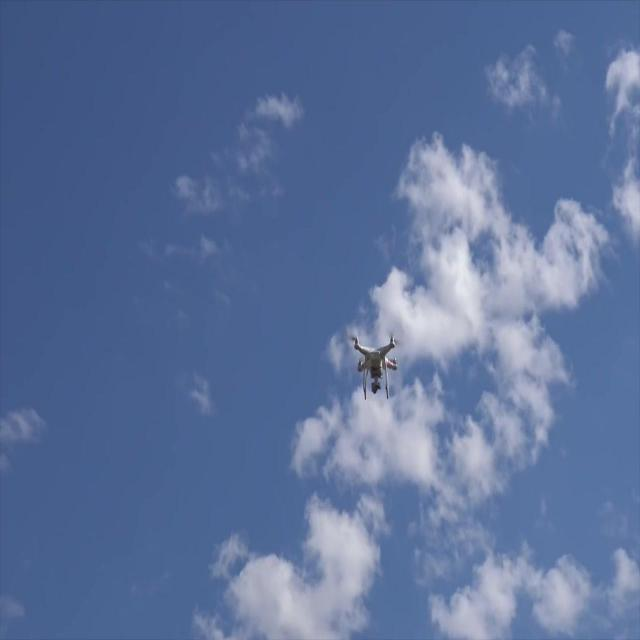UAV: (352, 334, 397, 400)
